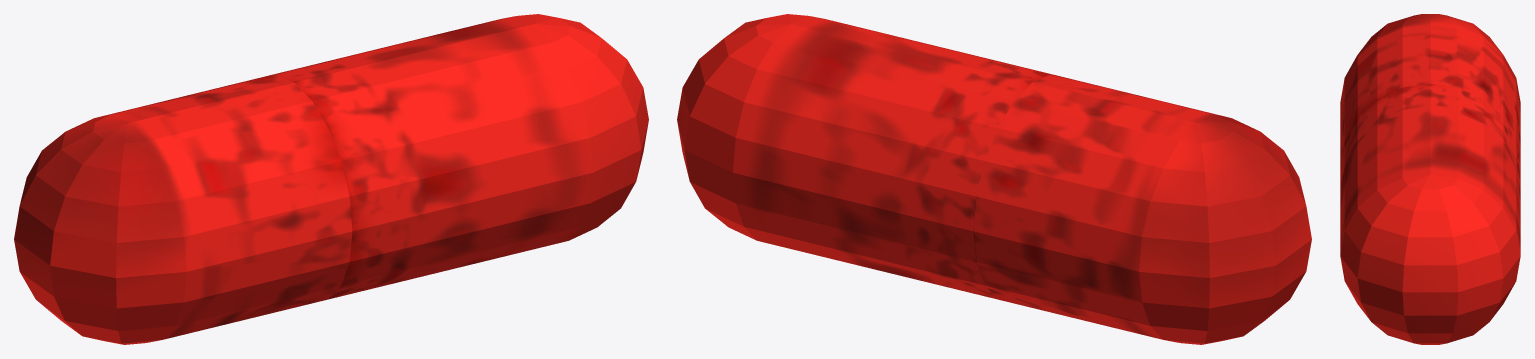
File: Laser.fbx
3 views of the same model, side by side, from view 1: azimuth 30°, elevation 25°; view 2: azimuth 150°, elevation 25°; view 3: azimuth 270°, elevation 25° (orthographic). The views are drawn at different scales.
Visible parts, largest first — view 1: Laser; view 2: Laser; view 3: Laser.
Boxes of the visible parts, box(x1,y1,x2,y2) form: Laser: box(14, 14, 648, 344); Laser: box(677, 14, 1311, 344); Laser: box(1340, 14, 1520, 344).
Size of the model in its own units: 200 by 67.63 by 67.63.
